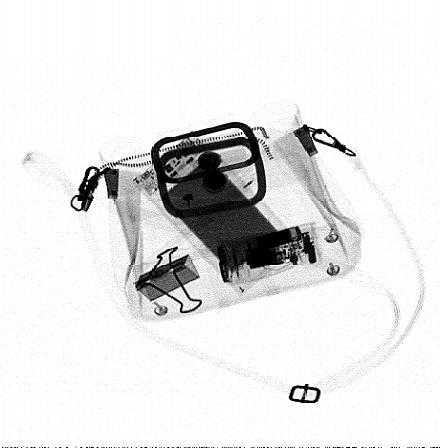Powerbank: (131, 129, 303, 294)
